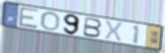1: (132, 24, 141, 45)
9: (62, 13, 82, 36)
B: (82, 16, 104, 39)
E: (18, 6, 41, 30)
O: (39, 11, 61, 32)
X: (103, 19, 124, 43)
